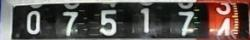digits: (178, 10, 198, 36), (98, 8, 117, 35), (62, 10, 78, 36), (26, 10, 40, 34), (216, 17, 230, 36), (140, 8, 149, 32)
